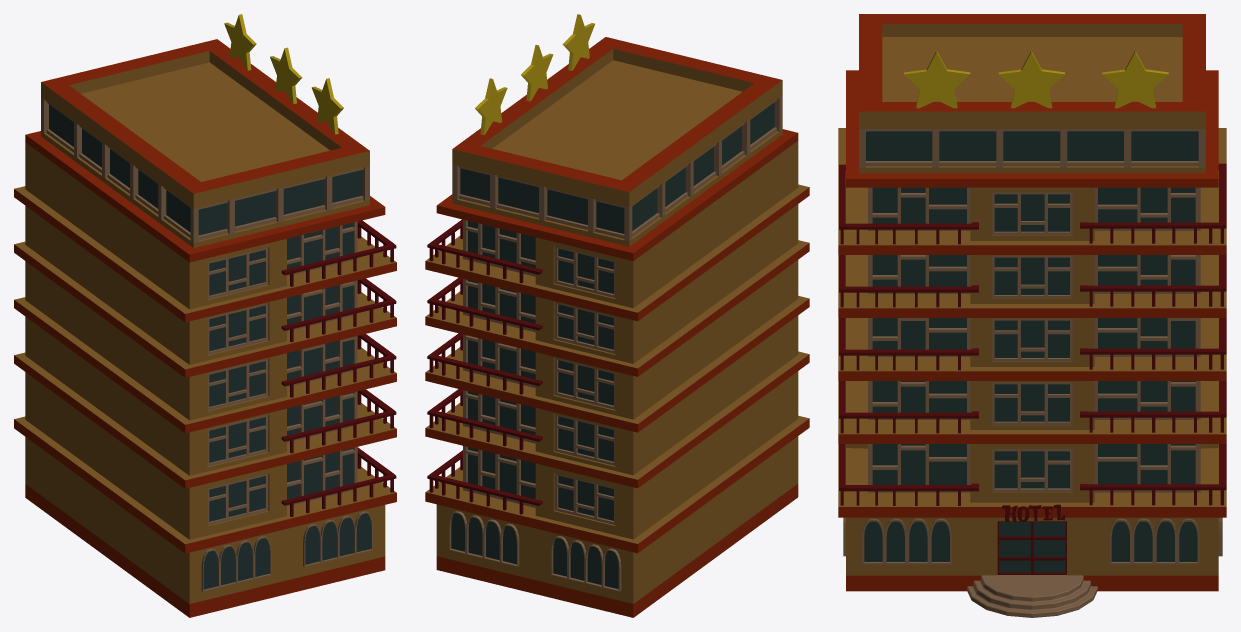
File: Hotel(3star).obj
The picture shows the model from 3 angles, left to right: view 1: azimuth 30°, elevation 25°; view 2: azimuth 150°, elevation 25°; view 3: azimuth 270°, elevation 25°; orthographic projection. The views are drawn at different scales.
Parts seen in each view (by area): view 1: Hotel(3star)_Cube.049; view 2: Hotel(3star)_Cube.049; view 3: Hotel(3star)_Cube.049.
Boxes of the visible parts, x1=… form: Hotel(3star)_Cube.049: x1=14, y1=14, x2=396, y2=617; Hotel(3star)_Cube.049: x1=425, y1=14, x2=809, y2=617; Hotel(3star)_Cube.049: x1=838, y1=14, x2=1226, y2=617.
Bounding box in the file's own units: 15.54 × 27.45 × 18.24.
